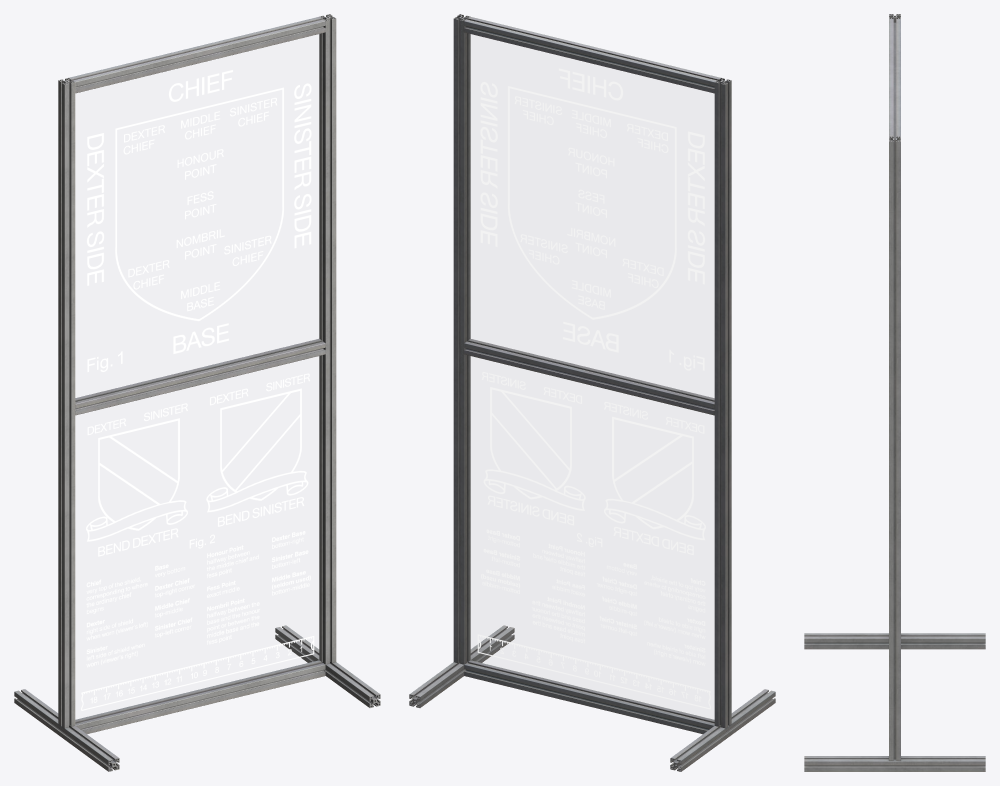
3 views of the same model, side by side, from view 1: azimuth 30°, elevation 25°; view 2: azimuth 150°, elevation 25°; view 3: azimuth 270°, elevation 25° (orthographic). The views are drawn at different scales.
Visible parts, largest first — view 1: Dexter & Sinister_1.002; view 2: Dexter & Sinister_1.002; view 3: Dexter & Sinister_1.002.
Boxes of the visible parts, <box> form: Dexter & Sinister_1.002: <box>14,14,380,771</box>; Dexter & Sinister_1.002: <box>409,14,775,771</box>; Dexter & Sinister_1.002: <box>804,14,985,771</box>.
Size of the model in its own units: 0.9997 by 2.3 by 0.6.
Materials: 4 (3 with a texture image).
